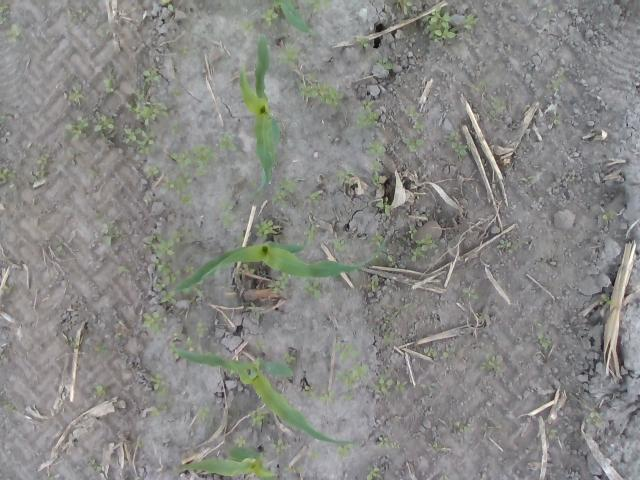Maize: (174, 345, 352, 447), (170, 238, 386, 294), (240, 33, 282, 201), (176, 446, 277, 480), (272, 0, 316, 36)
Weeds: (125, 82, 168, 126), (170, 142, 218, 177), (298, 72, 344, 108), (142, 227, 190, 256), (422, 6, 459, 42), (160, 171, 193, 205), (92, 210, 121, 246), (124, 126, 156, 154), (148, 258, 182, 283), (410, 233, 438, 262), (336, 364, 369, 388), (271, 178, 297, 207), (92, 110, 116, 138), (356, 98, 378, 128), (62, 116, 88, 140), (278, 44, 302, 68), (156, 278, 178, 304), (31, 154, 50, 182), (183, 278, 204, 303), (478, 353, 504, 373), (218, 198, 235, 228), (260, 4, 282, 26), (268, 270, 290, 292), (546, 68, 566, 92), (334, 342, 359, 360), (372, 374, 392, 396), (496, 232, 518, 252), (142, 311, 162, 333), (254, 219, 276, 239), (451, 140, 471, 160), (0, 167, 18, 189), (150, 372, 168, 394), (217, 132, 237, 151), (302, 280, 323, 298), (250, 407, 271, 425), (374, 196, 392, 216), (490, 97, 507, 118), (370, 160, 382, 188), (308, 0, 332, 14), (318, 387, 335, 406), (270, 438, 289, 455), (366, 140, 386, 156), (402, 137, 424, 151), (303, 224, 317, 246), (337, 168, 354, 186), (68, 85, 86, 102), (586, 412, 604, 428), (338, 443, 354, 461), (142, 66, 160, 82), (378, 436, 397, 450), (144, 164, 160, 180), (6, 24, 20, 42), (394, 0, 412, 14), (150, 404, 168, 418), (235, 262, 256, 274), (196, 320, 210, 338), (88, 382, 106, 396), (464, 14, 478, 31), (394, 303, 411, 317), (404, 105, 422, 118), (168, 342, 181, 360), (338, 390, 355, 403), (412, 120, 427, 134), (332, 237, 346, 252), (366, 466, 381, 480), (103, 78, 116, 94), (376, 57, 393, 69), (538, 332, 550, 349), (462, 287, 479, 299), (302, 384, 316, 398), (602, 210, 618, 222), (66, 8, 82, 20), (372, 230, 384, 246), (250, 302, 262, 318), (0, 400, 17, 411), (200, 350, 223, 358), (306, 191, 320, 204), (444, 128, 459, 140), (418, 382, 438, 391), (426, 442, 443, 452), (89, 459, 102, 472), (160, 0, 174, 12), (472, 81, 486, 93), (599, 292, 613, 304), (198, 406, 210, 420), (456, 421, 471, 432), (66, 150, 76, 166), (408, 224, 418, 240), (422, 347, 438, 357), (169, 120, 180, 134), (282, 466, 304, 473), (242, 20, 254, 32), (367, 280, 379, 292), (234, 436, 246, 448), (356, 36, 369, 47), (382, 332, 395, 343), (66, 336, 78, 347), (89, 165, 99, 178), (553, 110, 562, 124), (172, 88, 184, 98), (443, 348, 455, 358), (186, 337, 194, 352), (54, 240, 64, 252), (397, 381, 408, 391), (178, 45, 190, 54), (0, 0, 8, 13), (284, 354, 297, 362), (548, 428, 558, 438), (117, 264, 127, 274), (254, 340, 266, 348), (308, 452, 320, 460), (520, 176, 535, 182), (135, 438, 144, 448), (373, 250, 382, 260), (236, 236, 243, 248), (251, 177, 259, 187), (3, 284, 13, 292), (95, 344, 106, 351), (99, 26, 105, 38), (534, 317, 542, 326), (386, 254, 394, 263), (474, 312, 484, 319), (115, 332, 122, 340), (384, 316, 391, 324), (186, 266, 194, 273), (0, 15, 6, 24), (439, 475, 449, 480), (228, 369, 238, 374), (568, 175, 575, 182), (0, 354, 6, 361), (401, 340, 407, 346), (0, 114, 4, 122), (369, 326, 375, 330), (134, 477, 140, 480)
